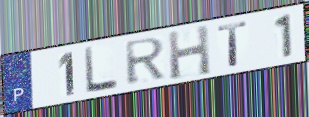1: (273, 11, 295, 60), (58, 50, 76, 97)
H: (166, 23, 213, 82)
L: (82, 45, 120, 96)
R: (123, 36, 167, 88)
T: (216, 20, 251, 69)
